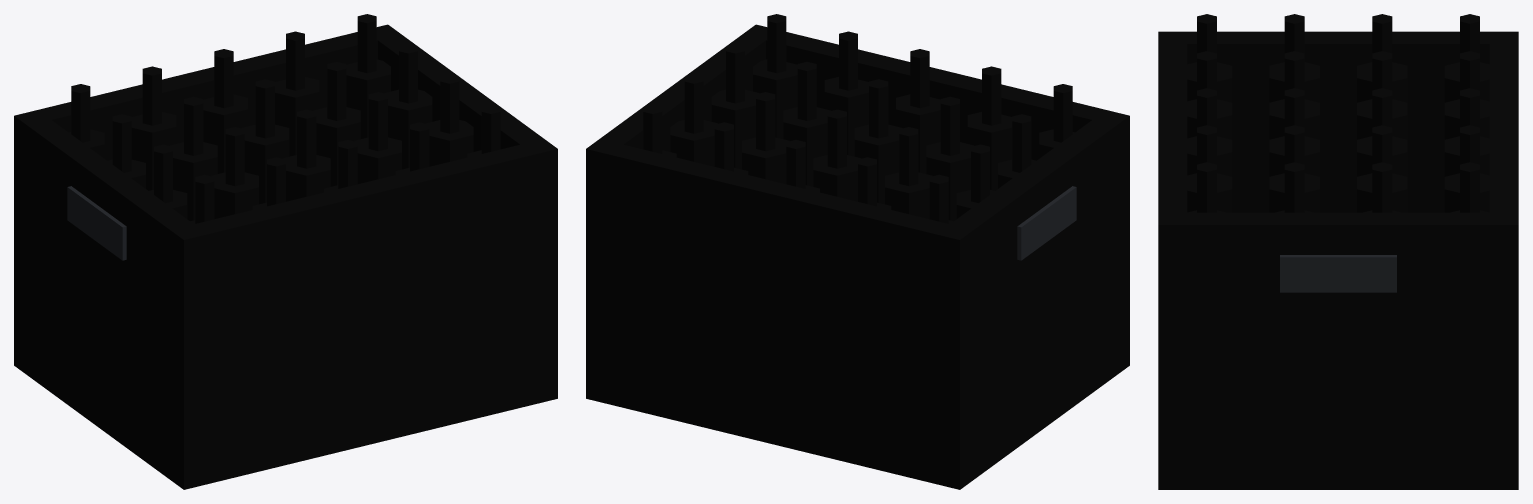
File: BeerCrate.fbx
3 views of the same model, side by side, from view 1: azimuth 30°, elevation 25°; view 2: azimuth 150°, elevation 25°; view 3: azimuth 270°, elevation 25° (orthographic). The views are drawn at different scales.
Visible parts, largest first — view 1: Crate, Bottles, Handles; view 2: Crate, Bottles, Handles; view 3: Crate, Bottles, Handles.
Boxes of the visible parts, x1,y1,x2,y2 form: Crate: [14, 24, 557, 489]; Bottles: [69, 14, 500, 223]; Handles: [67, 186, 126, 260]; Crate: [586, 24, 1129, 489]; Bottles: [643, 14, 1074, 223]; Handles: [1017, 186, 1076, 260]; Crate: [1158, 31, 1518, 489]; Bottles: [1187, 14, 1489, 212]; Handles: [1280, 255, 1396, 292].
Size of the model in its own units: 0.48 by 0.34 by 0.37.
